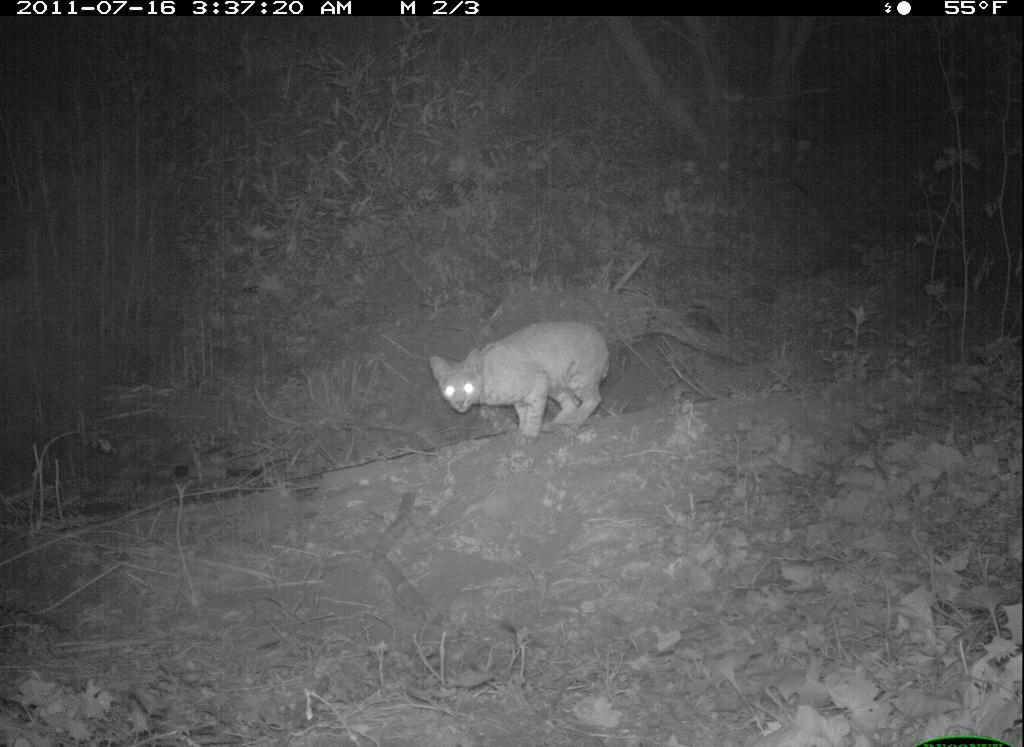bobcat: (422, 313, 621, 447)
